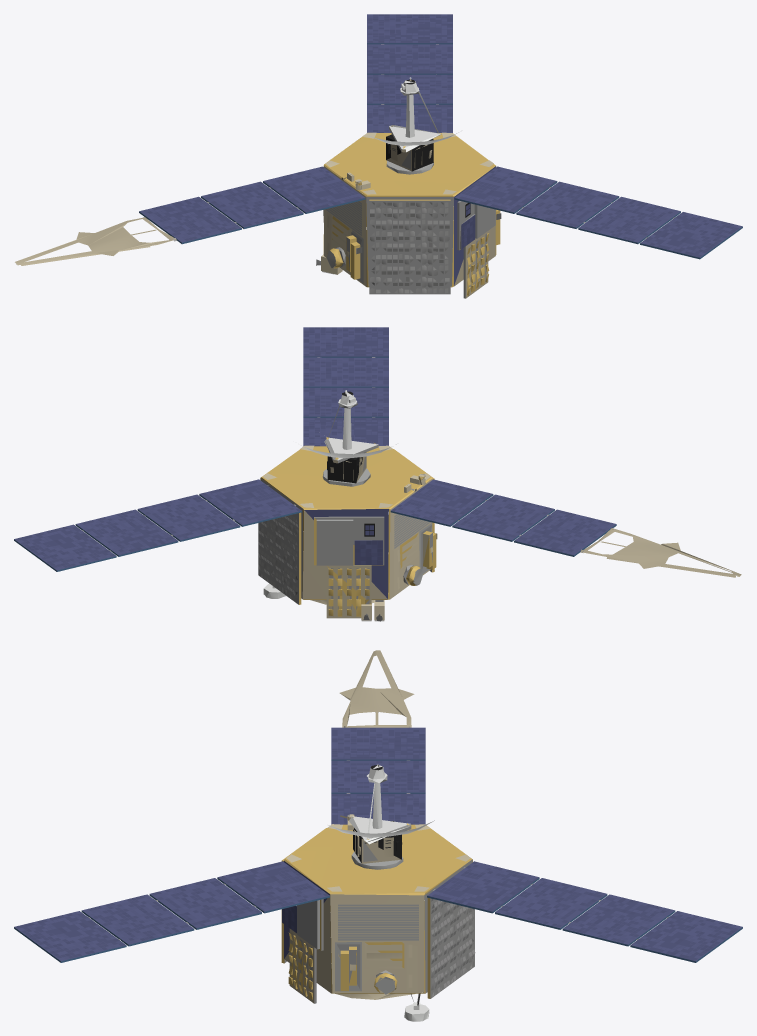
Rendered from juno.glb.
3 views of the same model, one above another, from view 1: azimuth 30°, elevation 25°; view 2: azimuth 150°, elevation 25°; view 3: azimuth 270°, elevation 25° (orthographic). The views are drawn at different scales.
Visible parts, largest first — view 1: solar-panel, body, foil; view 2: solar-panel, body, foil; view 3: solar-panel, body, foil.
Boxes of the visible parts, box(x1,y1,x2,y2) form: solar-panel: box(139, 14, 742, 285); body: box(15, 44, 674, 298); foil: box(323, 125, 500, 295); solar-panel: box(14, 327, 616, 598); body: box(82, 357, 741, 621); foil: box(260, 437, 436, 617); solar-panel: box(14, 727, 742, 962); body: box(88, 650, 668, 1021); foil: box(281, 816, 472, 999).
Size of the model in its own units: 23.17 by 7.86 by 22.92.
